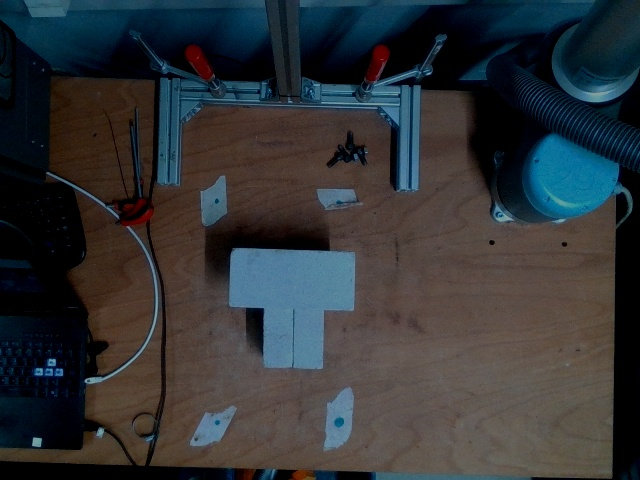brick: (227, 248, 354, 309)
